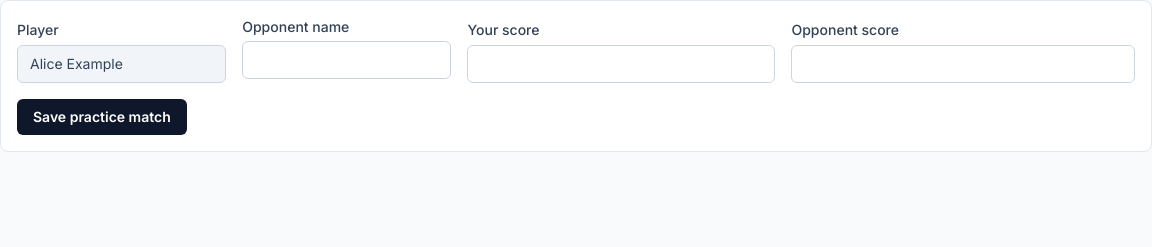
Test: PracticeMatchForm › defaults the current player and blocks invalid scores
Expected: the field showing "Alice Example" is disabled, 17,45 -> 226,83
Type "Bob" into the field labelled "Opponent name" at (347, 60), box 242,41 -> 452,79
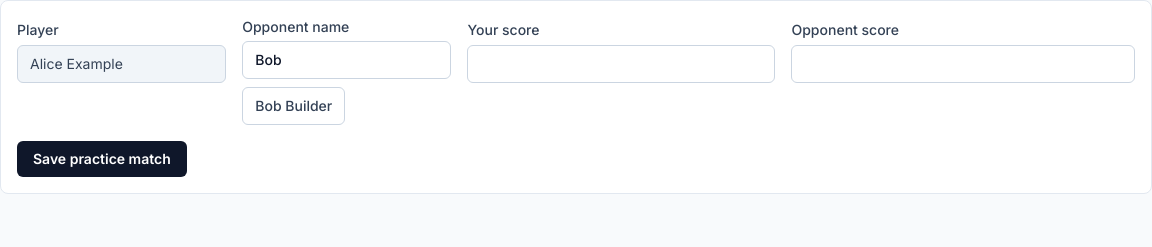
Click the button "Bob Builder" at (294, 106), box 242,87 -> 345,125
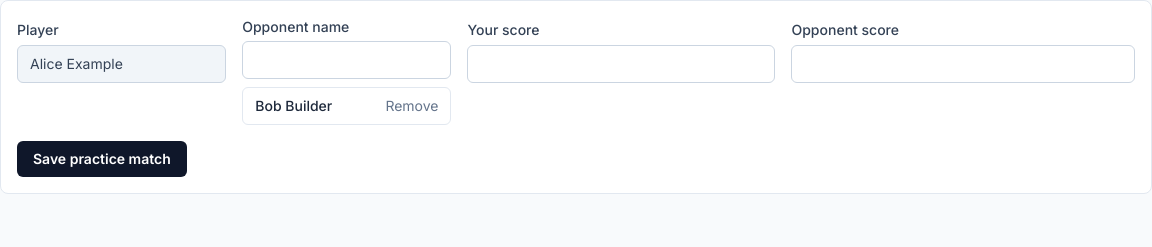
Type "11" into the number field labelled "Your score" at (622, 64), box 468,45 -> 776,83
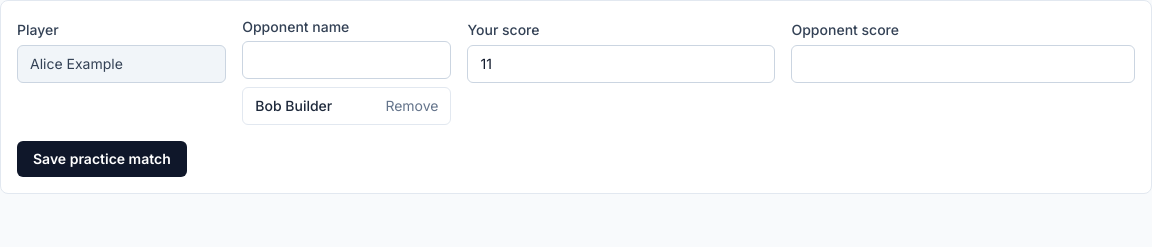
Type "10" into the number field labelled "Opponent score" at (963, 64), box 792,45 -> 1135,83
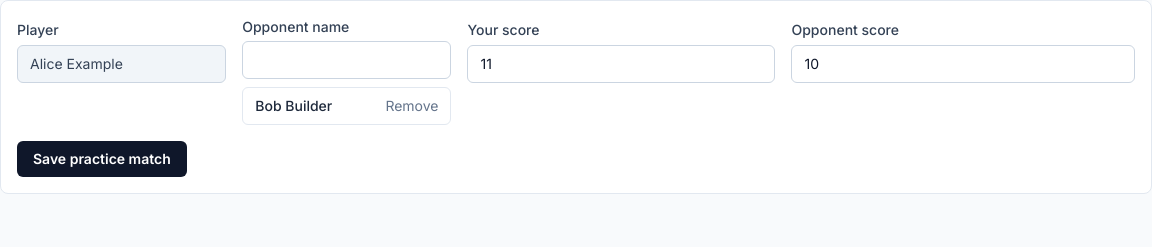
Click the button "Save practice match" at (102, 159), box 17,141 -> 187,177
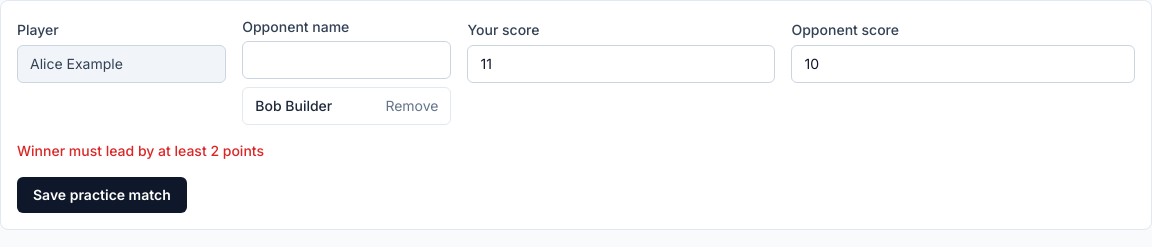
Expected: the text "Winner must lead by at least 2 points" is shown, 17,142 -> 264,159
